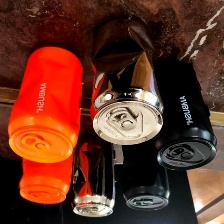can: (89, 12, 165, 148), (4, 44, 85, 164), (151, 55, 219, 172), (68, 132, 118, 219), (117, 139, 169, 212), (15, 154, 74, 207)
